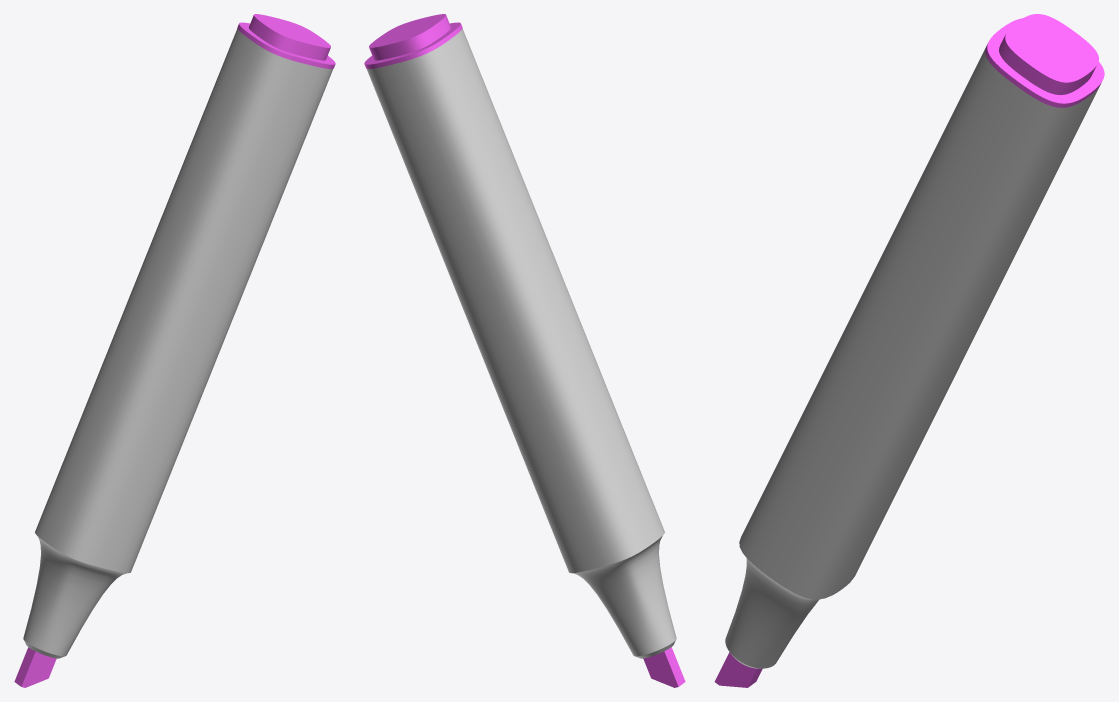
The model's file is Marker - Pink.dae.
The picture shows the model from 3 angles, left to right: view 1: azimuth 30°, elevation 25°; view 2: azimuth 150°, elevation 25°; view 3: azimuth 330°, elevation 25°; orthographic projection. The views are drawn at different scales.
Visible parts, largest first — view 1: a73aa703-a92d-4632-a67e-b53a3e973a2f, af7ec8c6-e68d-4e0d-bf7c-77951d26ce72, a6666900-50b4-431b-9dce-404c4bc1095b; view 2: a73aa703-a92d-4632-a67e-b53a3e973a2f, af7ec8c6-e68d-4e0d-bf7c-77951d26ce72, a6666900-50b4-431b-9dce-404c4bc1095b; view 3: a73aa703-a92d-4632-a67e-b53a3e973a2f, af7ec8c6-e68d-4e0d-bf7c-77951d26ce72, a6666900-50b4-431b-9dce-404c4bc1095b.
Part boxes in pixels (x1,y1,x2,y2): a73aa703-a92d-4632-a67e-b53a3e973a2f: [23, 29, 332, 658]; af7ec8c6-e68d-4e0d-bf7c-77951d26ce72: [237, 14, 335, 68]; a6666900-50b4-431b-9dce-404c4bc1095b: [14, 647, 56, 687]; a73aa703-a92d-4632-a67e-b53a3e973a2f: [367, 29, 676, 658]; af7ec8c6-e68d-4e0d-bf7c-77951d26ce72: [364, 14, 462, 68]; a6666900-50b4-431b-9dce-404c4bc1095b: [643, 647, 685, 687]; a73aa703-a92d-4632-a67e-b53a3e973a2f: [725, 48, 1099, 668]; af7ec8c6-e68d-4e0d-bf7c-77951d26ce72: [985, 14, 1104, 107]; a6666900-50b4-431b-9dce-404c4bc1095b: [714, 652, 762, 687].
Size of the model in its own units: 75.97 by 20 by 143.
